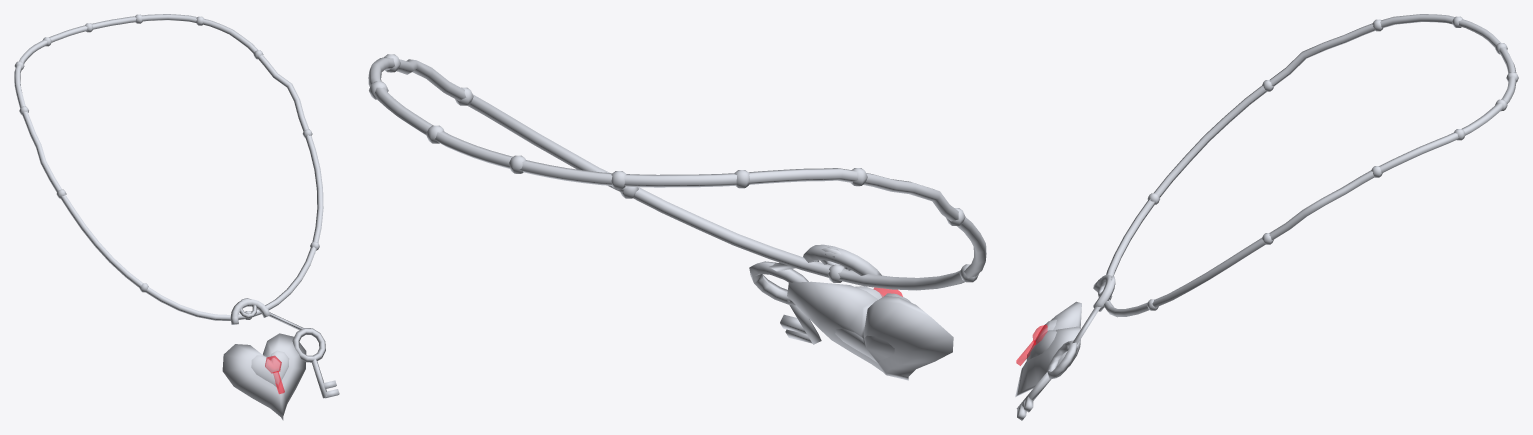
File: heart_lock_necklace.glb
3 renders of one model, left to right at view 1: azimuth 30°, elevation 25°; view 2: azimuth 150°, elevation 25°; view 3: azimuth 270°, elevation 25°, orthographic. The views are drawn at different scales.
Parts seen in each view (by area): view 1: heart_lock_necklace; view 2: heart_lock_necklace; view 3: heart_lock_necklace.
Boxes of the visible parts, x1,y1,x2,y2 form: heart_lock_necklace: [14, 14, 339, 420]; heart_lock_necklace: [368, 54, 986, 380]; heart_lock_necklace: [1015, 14, 1518, 420].
Bounding box in the file's own units: 0.0984 × 0.0929 × 0.1299.
